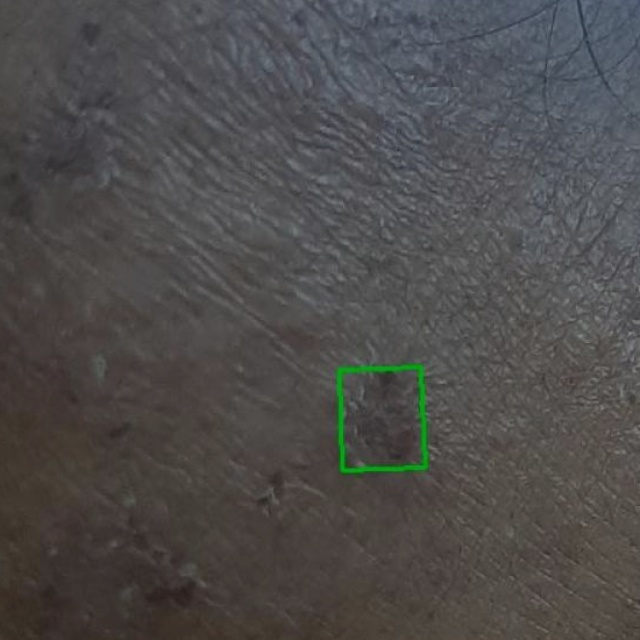Tinea Corporis: (340, 367, 425, 471)
